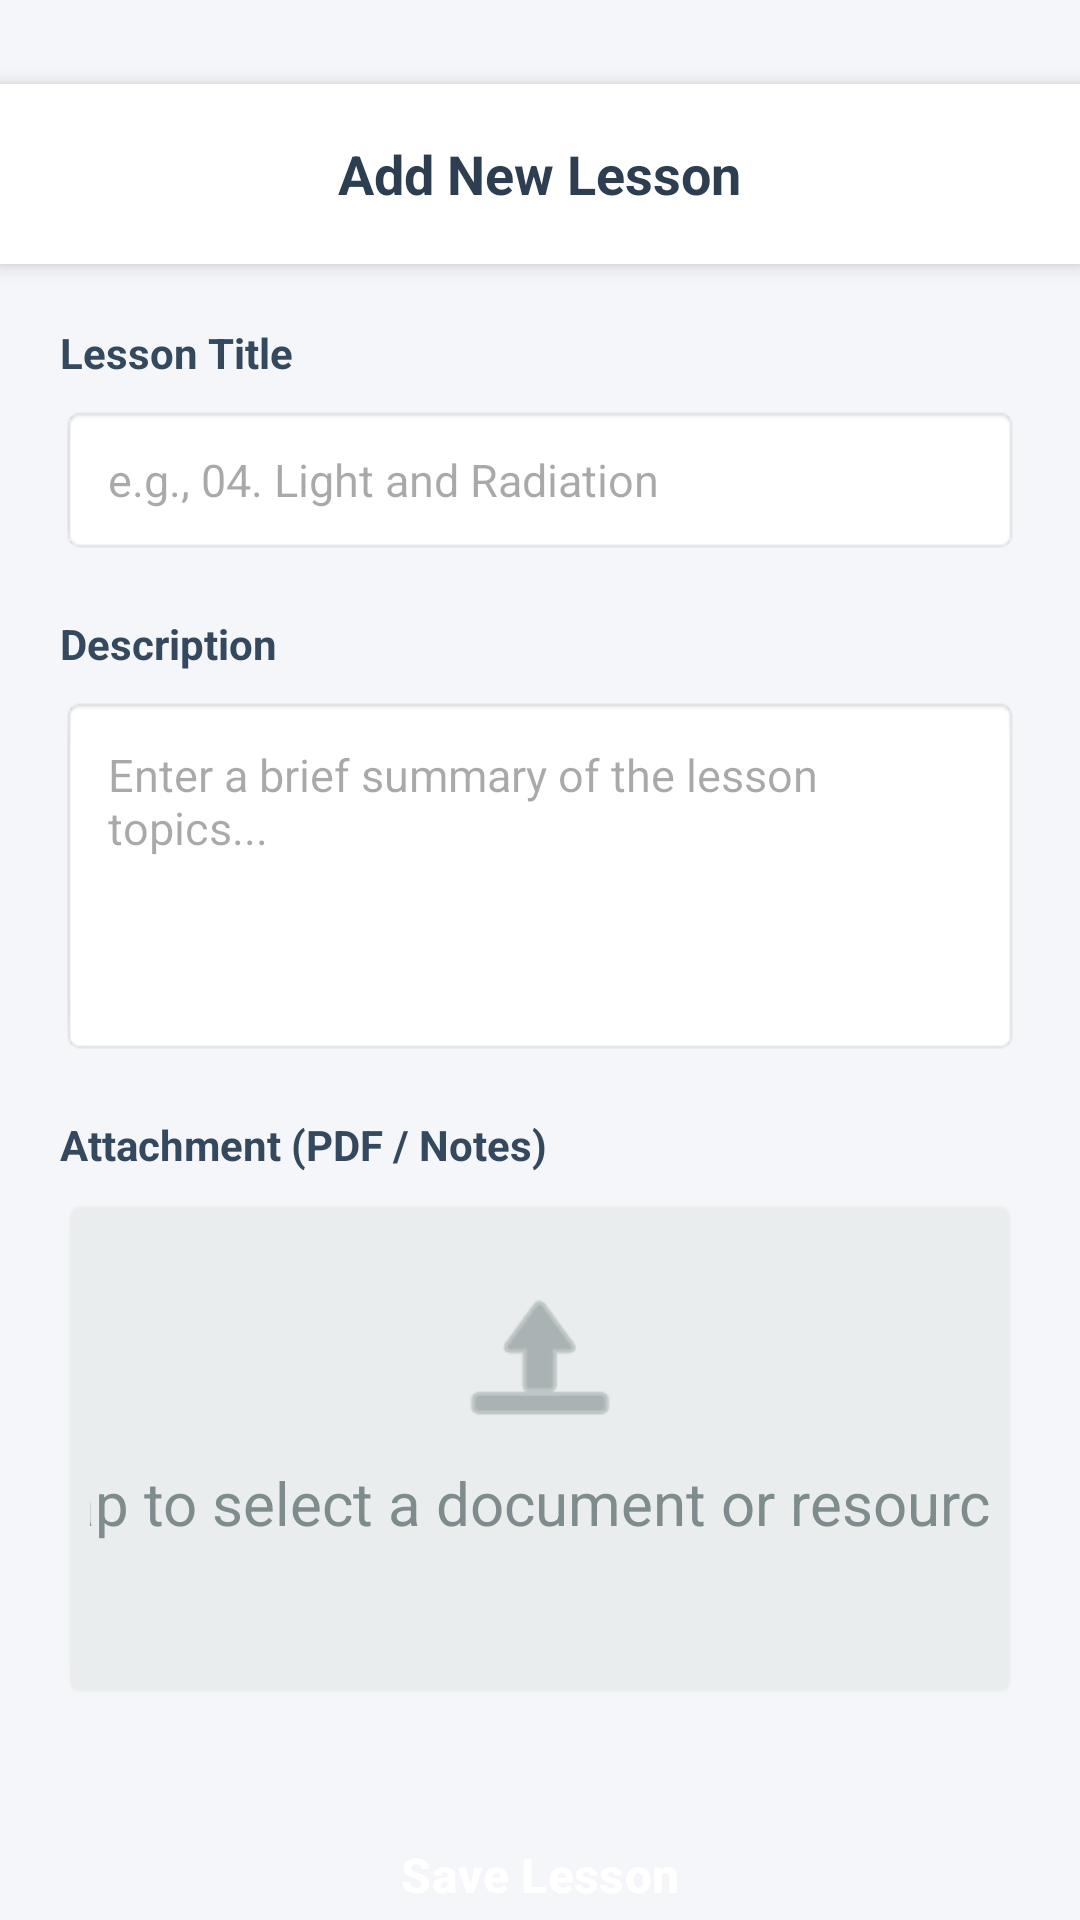

Where to tap for icons on this 1080*1920 app screen, as (x=x, y=y):
Upload File: (x=540, y=1357)
